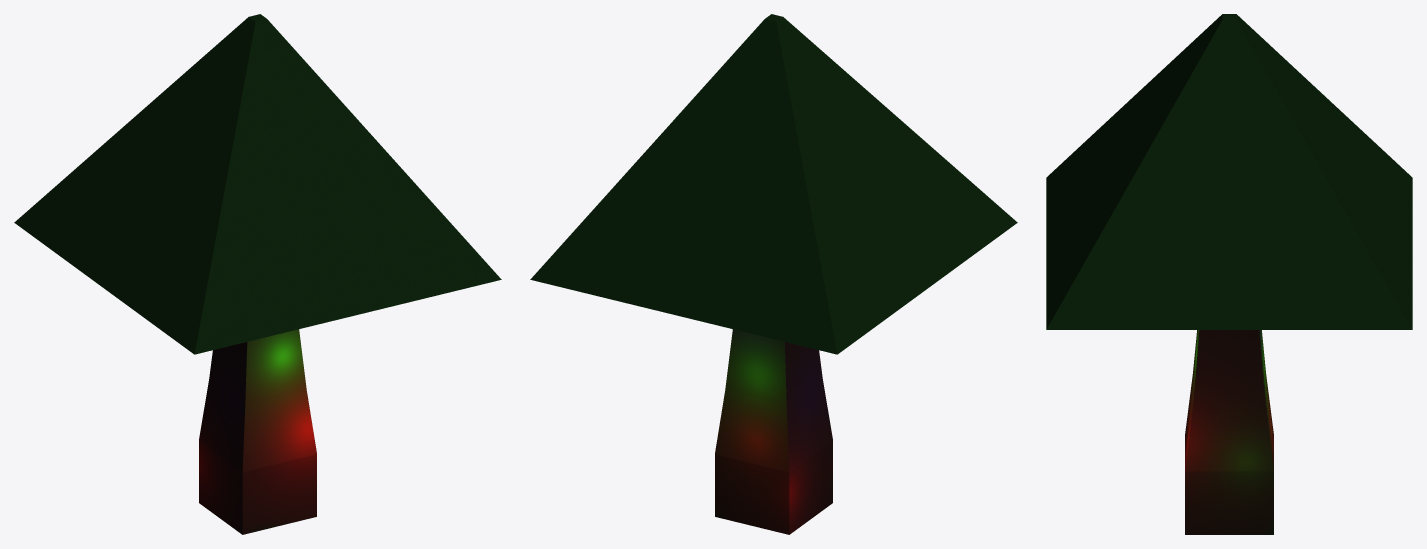
Rendered from tree.obj.
The picture shows the model from 3 angles, left to right: view 1: azimuth 30°, elevation 25°; view 2: azimuth 150°, elevation 25°; view 3: azimuth 270°, elevation 25°; orthographic projection.
Parts seen in each view (by area): view 1: Cube; view 2: Cube; view 3: Cube.
Boxes of the visible parts, x1,y1,x2,y2 form: Cube: [14, 14, 501, 534]; Cube: [530, 14, 1017, 534]; Cube: [1046, 14, 1412, 534].
Bounding box in the file's own units: 11.17 × 17.08 × 11.35.
